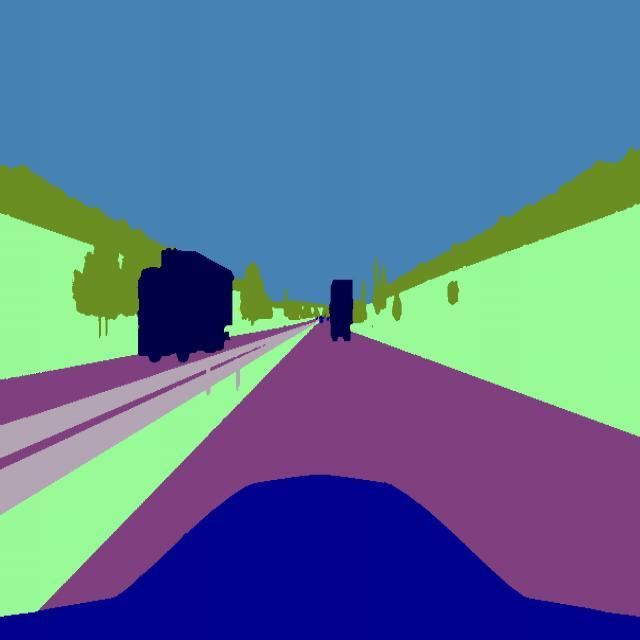safe: (138, 246, 235, 366), (328, 279, 356, 345)
